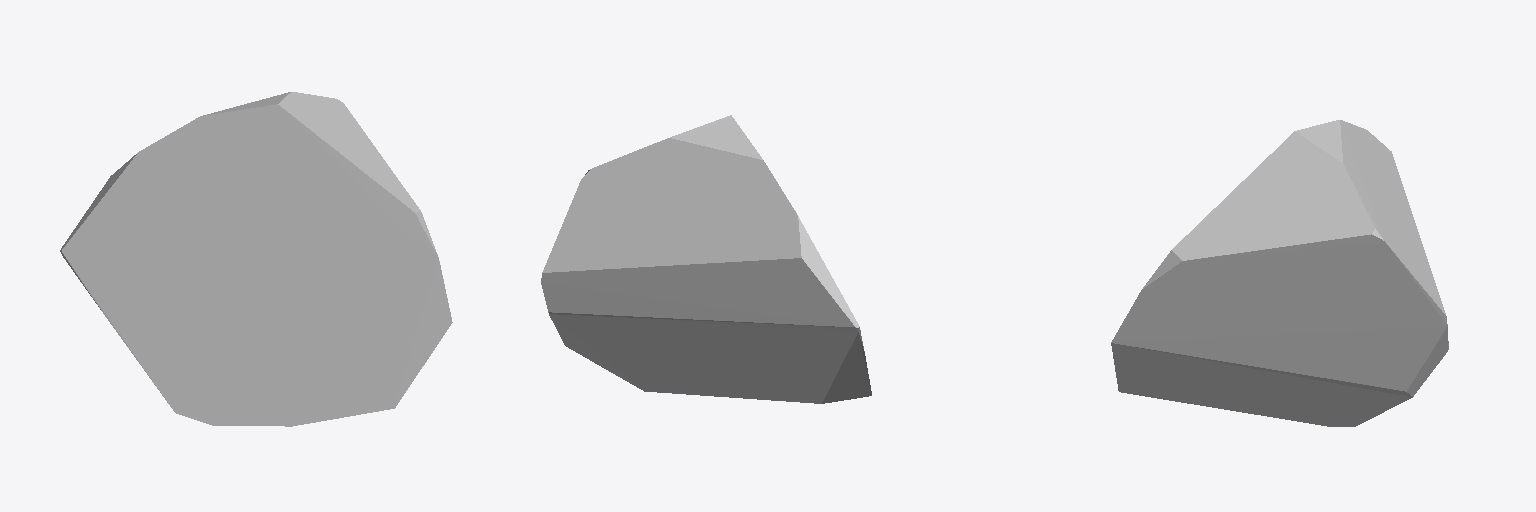
The model's file is Sphere_Cell_Fracture29.obj.
The picture shows the model from 3 angles: view 1: azimuth 30°, elevation 25°; view 2: azimuth 150°, elevation 25°; view 3: azimuth 270°, elevation 25°; orthographic projection.
Size of the model in its own units: 0.8424 by 0.7827 by 0.8607.